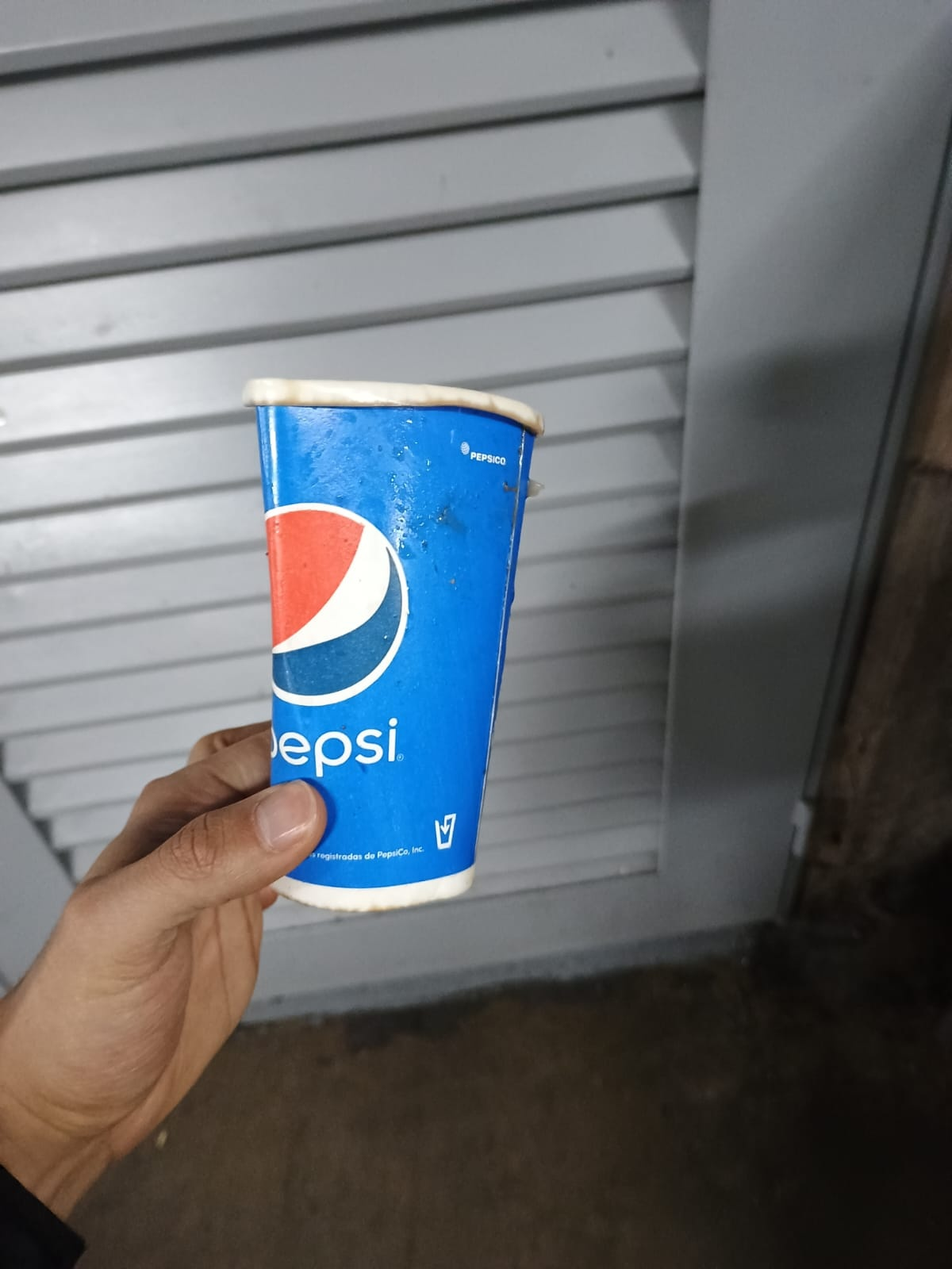Carton: (243, 377, 542, 908)
